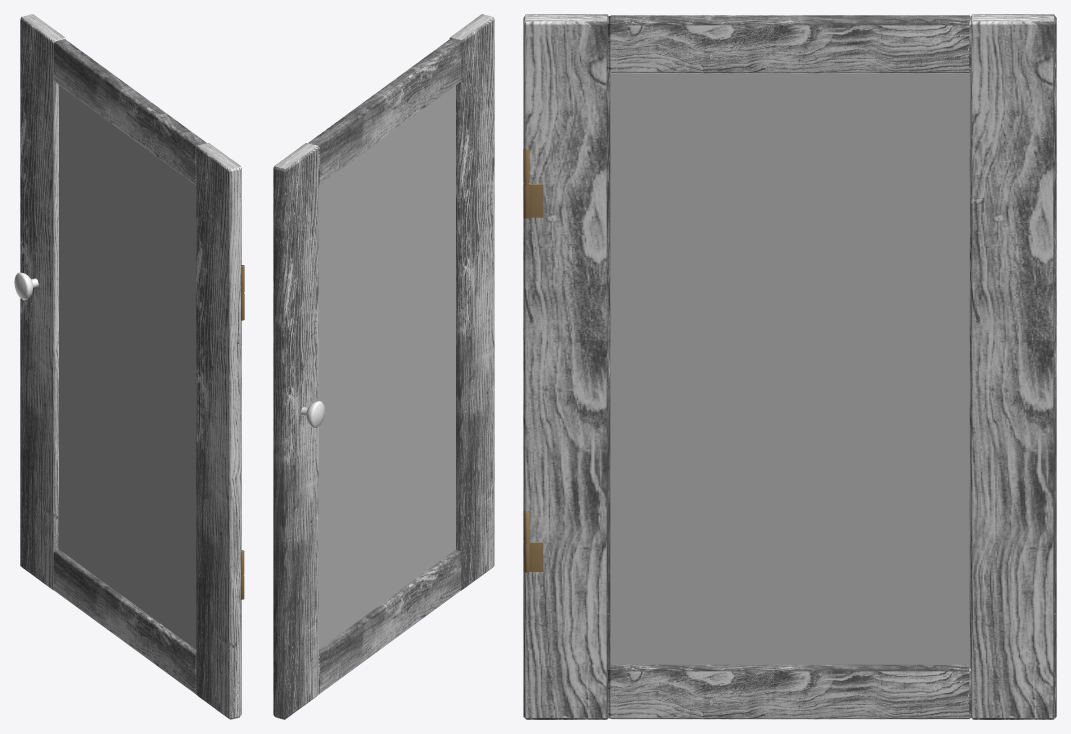
File: SM_Cabinet_C1_Door1.fbx
3 renders of one model, left to right at view 1: azimuth 30°, elevation 25°; view 2: azimuth 150°, elevation 25°; view 3: azimuth 270°, elevation 25°, orthographic. The views are drawn at different scales.
Visible parts, largest first — view 1: SM_Cabinet_C1_Door1; view 2: SM_Cabinet_C1_Door1; view 3: SM_Cabinet_C1_Door1.
Boxes of the visible parts, <box> form: SM_Cabinet_C1_Door1: <box>14,14,244,719</box>; SM_Cabinet_C1_Door1: <box>273,14,494,719</box>; SM_Cabinet_C1_Door1: <box>523,14,1056,719</box>.
Size of the model in its own units: 4.82 by 49.76 by 71.97.
Materials: 4 (3 with a texture image).
